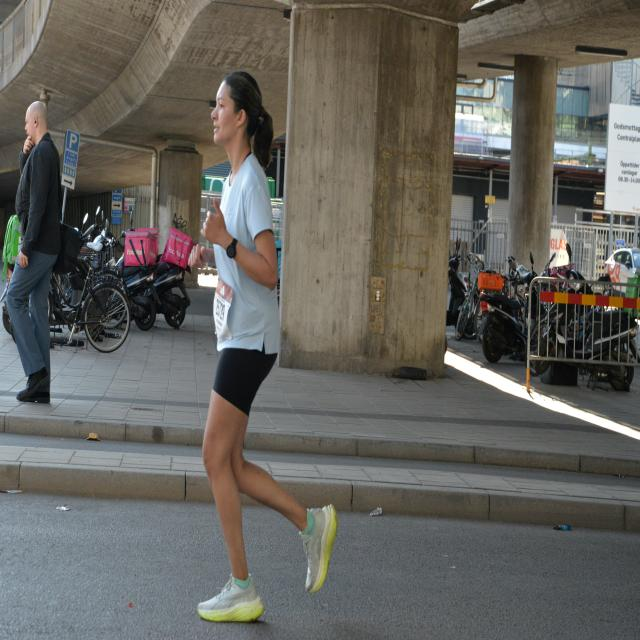runner-detect: (195, 64, 350, 626)
